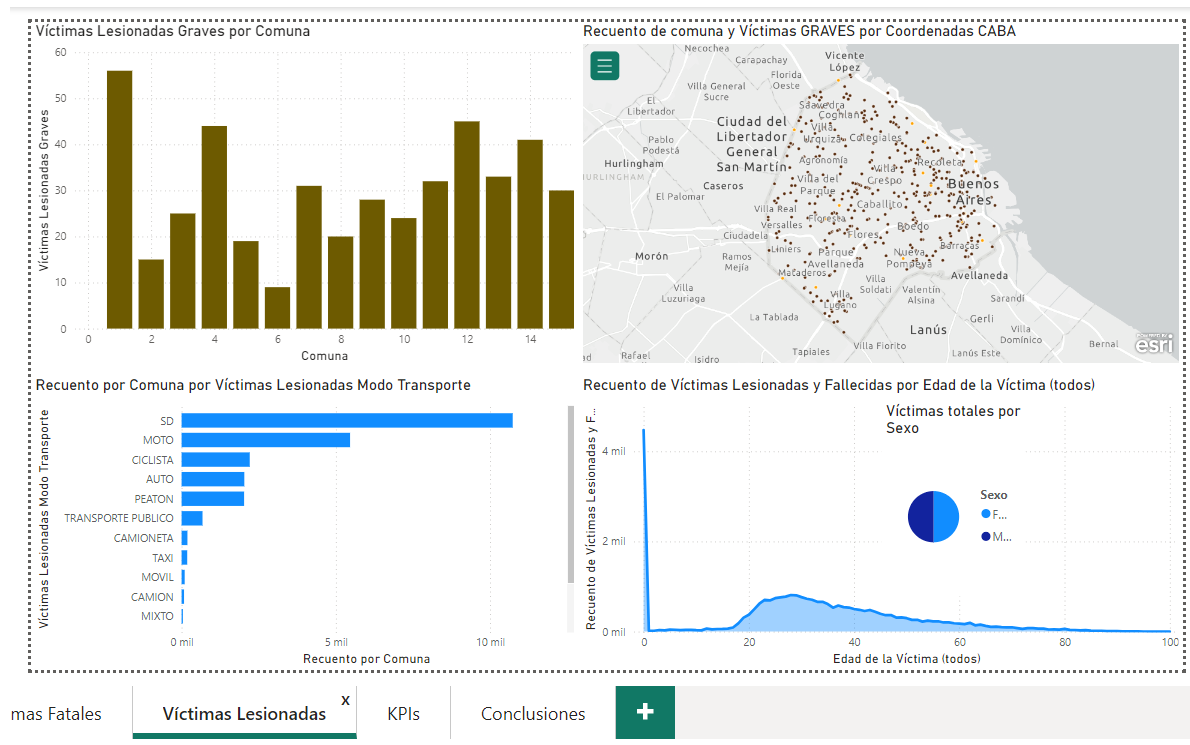

The page's visual inventory and layout, read from the dashboard file:
{"tool":"powerbi","page":{"name":"Víctimas Lesionadas","canvas":[1280,720],"ordinal":1},"visuals":[{"type":"esriVisual","fields":{"Location":["df_les_lista.Coordenadas CABA"],"Size":["Count(df_les_lista.comuna)"],"Color":["df_les_lista.gravedad"]},"box":[608.3,0,671.7,383.3],"z":0},{"type":"clusteredColumnChart","fields":{"Category":["df_les_lista.comuna"],"Y":["CountNonNull(df_les_lista.gravedad)"]},"box":[0,0,608.3,383.3],"z":1000},{"type":"barChart","fields":{"Category":["df_les_lista.victima"],"Y":["CountNonNull(df_les_lista.comuna)"]},"box":[0,393.3,608.3,326.7],"z":2000},{"type":"areaChart","fields":{"Category":["espec_lesion.EDAD_VICTIMA"],"Y":["CountNonNull(espec_lesion.GRAVEDAD)"]},"box":[608.3,393.3,671.7,326.7],"z":3000},{"type":"pieChart","fields":{"Category":["espec_lesion.SEXO"],"Y":["CountNonNull(df_les_lista.n_victimas)"]},"box":[945,421.7,160,216.7],"z":4000},{"type":"clusteredColumnChart","fields":{"Y":["CountNonNull(df_homic_lista.N_VICTIMAS)"],"Category":["espec_homicid.VICTIMA"]},"box":[358.3,461.7,210,218.3],"z":5000}]}

Visuals, with their boxes on the page's 1280x720 design canvas (x1, y1, x2, y2). These are canvas units, not pixel positions in the 1190x745 screenshot, which may show the page scaled, cropped or inside an application window:
esriVisual - df_les_lista.Coordenadas CABA x Count(df_les_lista.comuna): <region>608, 0, 1280, 383</region>
clusteredColumnChart - df_les_lista.comuna x CountNonNull(df_les_lista.gravedad): <region>0, 0, 608, 383</region>
barChart - df_les_lista.victima x CountNonNull(df_les_lista.comuna): <region>0, 393, 608, 720</region>
areaChart - espec_lesion.EDAD_VICTIMA x CountNonNull(espec_lesion.GRAVEDAD): <region>608, 393, 1280, 720</region>
pieChart - espec_lesion.SEXO x CountNonNull(df_les_lista.n_victimas): <region>945, 422, 1105, 638</region>
clusteredColumnChart - CountNonNull(df_homic_lista.N_VICTIMAS) x espec_homicid.VICTIMA: <region>358, 462, 568, 680</region>
